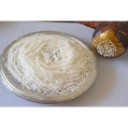idiyappam: (7, 36, 92, 93)
